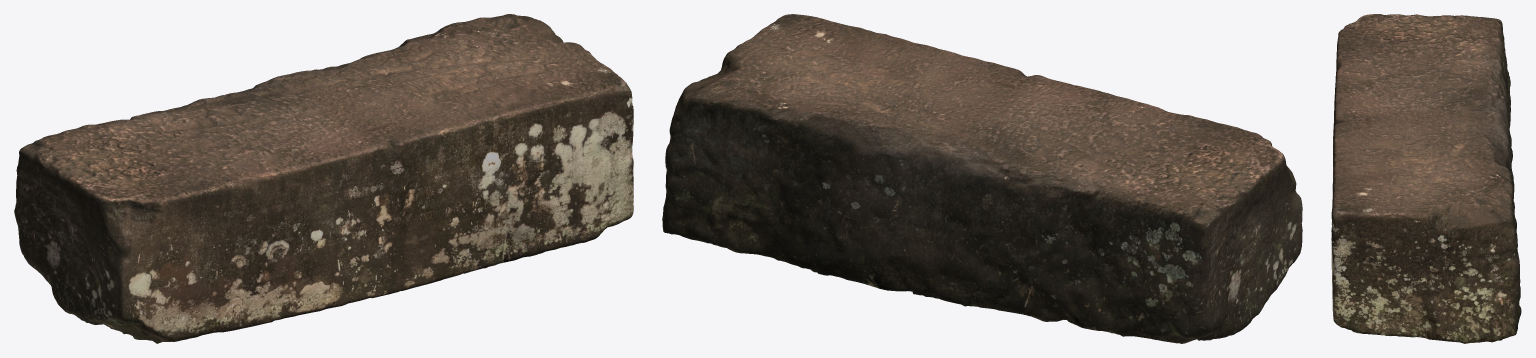
File: 12_MysonSanctuaryD_BiaKi_final.glb
3 renders of one model, left to right at view 1: azimuth 30°, elevation 25°; view 2: azimuth 150°, elevation 25°; view 3: azimuth 270°, elevation 25°, orthographic. The views are drawn at different scales.
Bounding box in the file's own units: 1.36 × 0.3739 × 0.5072.
Materials: 1 (1 with a texture image).
